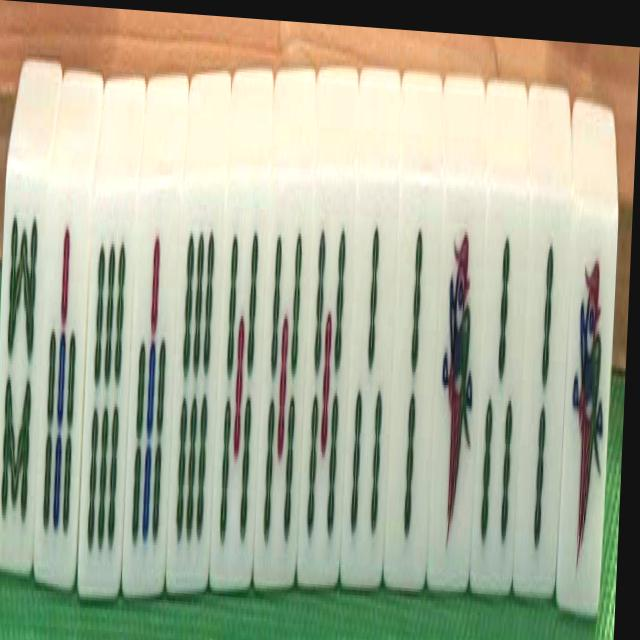s1: (560, 223, 615, 584), (429, 218, 483, 576)
s2: (386, 197, 444, 579), (515, 222, 572, 586)
s3: (341, 192, 399, 571), (471, 203, 529, 574)
s5: (211, 186, 270, 586), (253, 192, 312, 590), (298, 186, 355, 577)
s6: (167, 188, 225, 592), (77, 206, 135, 593)
s7: (122, 189, 182, 587), (35, 202, 91, 577)
s8: (0, 191, 47, 566)
